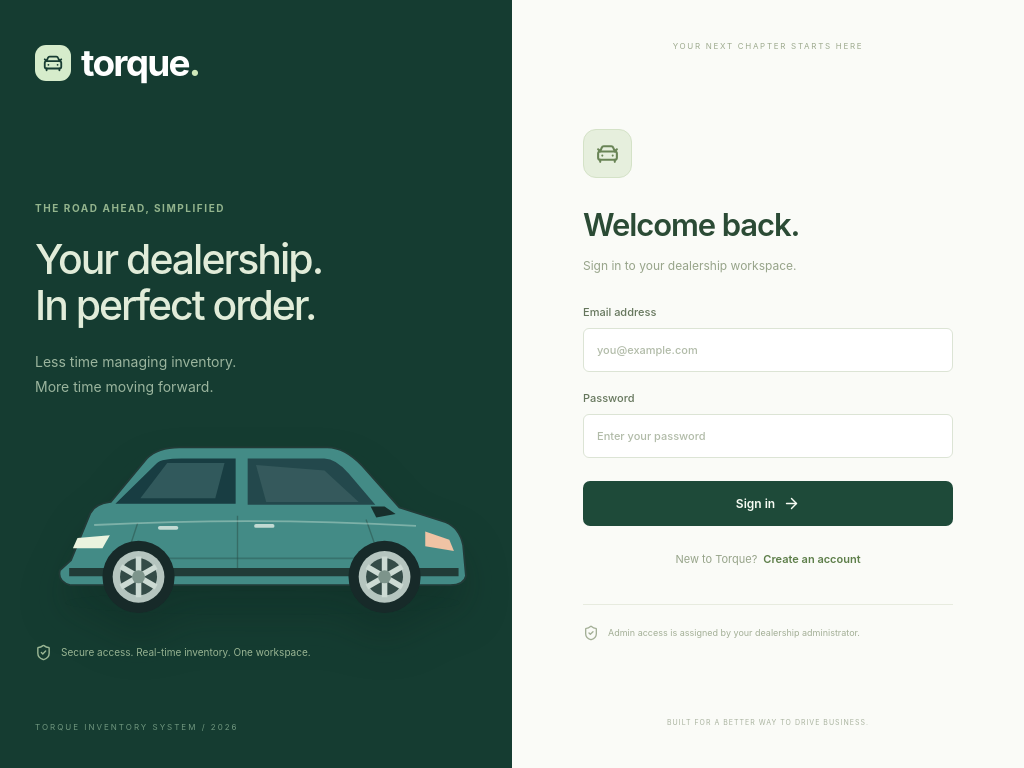
Test case: starts at secure sign-in and lets visitors open registration
Check: the heading "Welcome back." is shown, box [583,206,799,243]
Click the button "Create an account". click: click(810, 560)
box: [760,551,861,568]
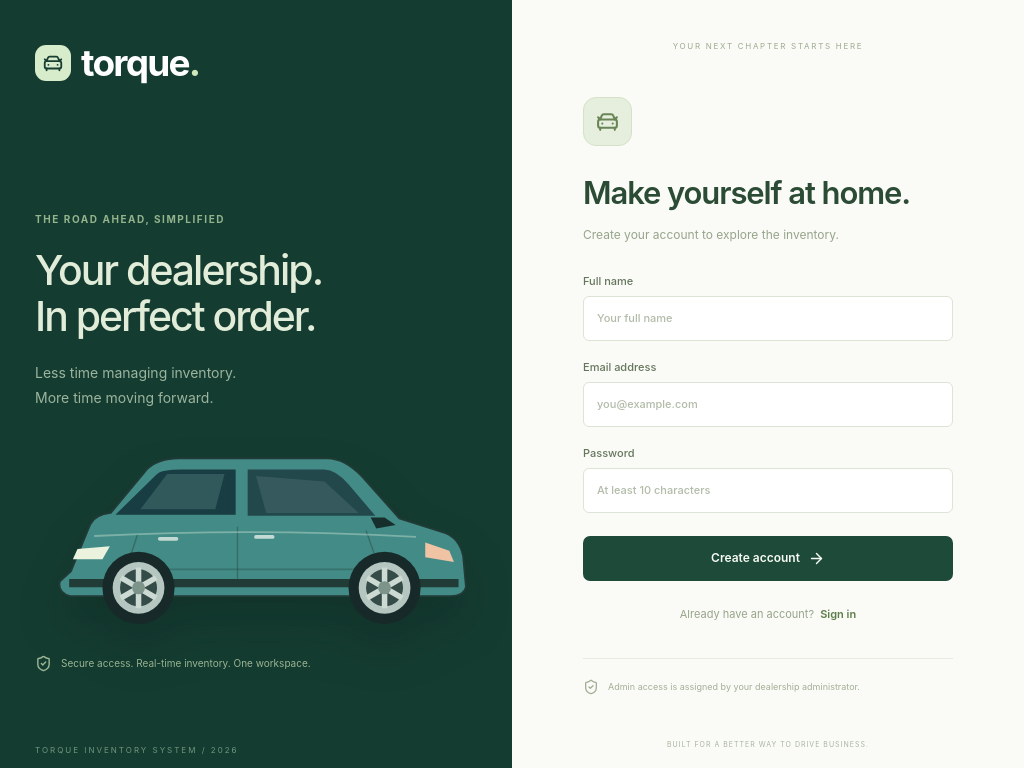
Check: the button "Create account" is shown, box [583,536,953,580]
